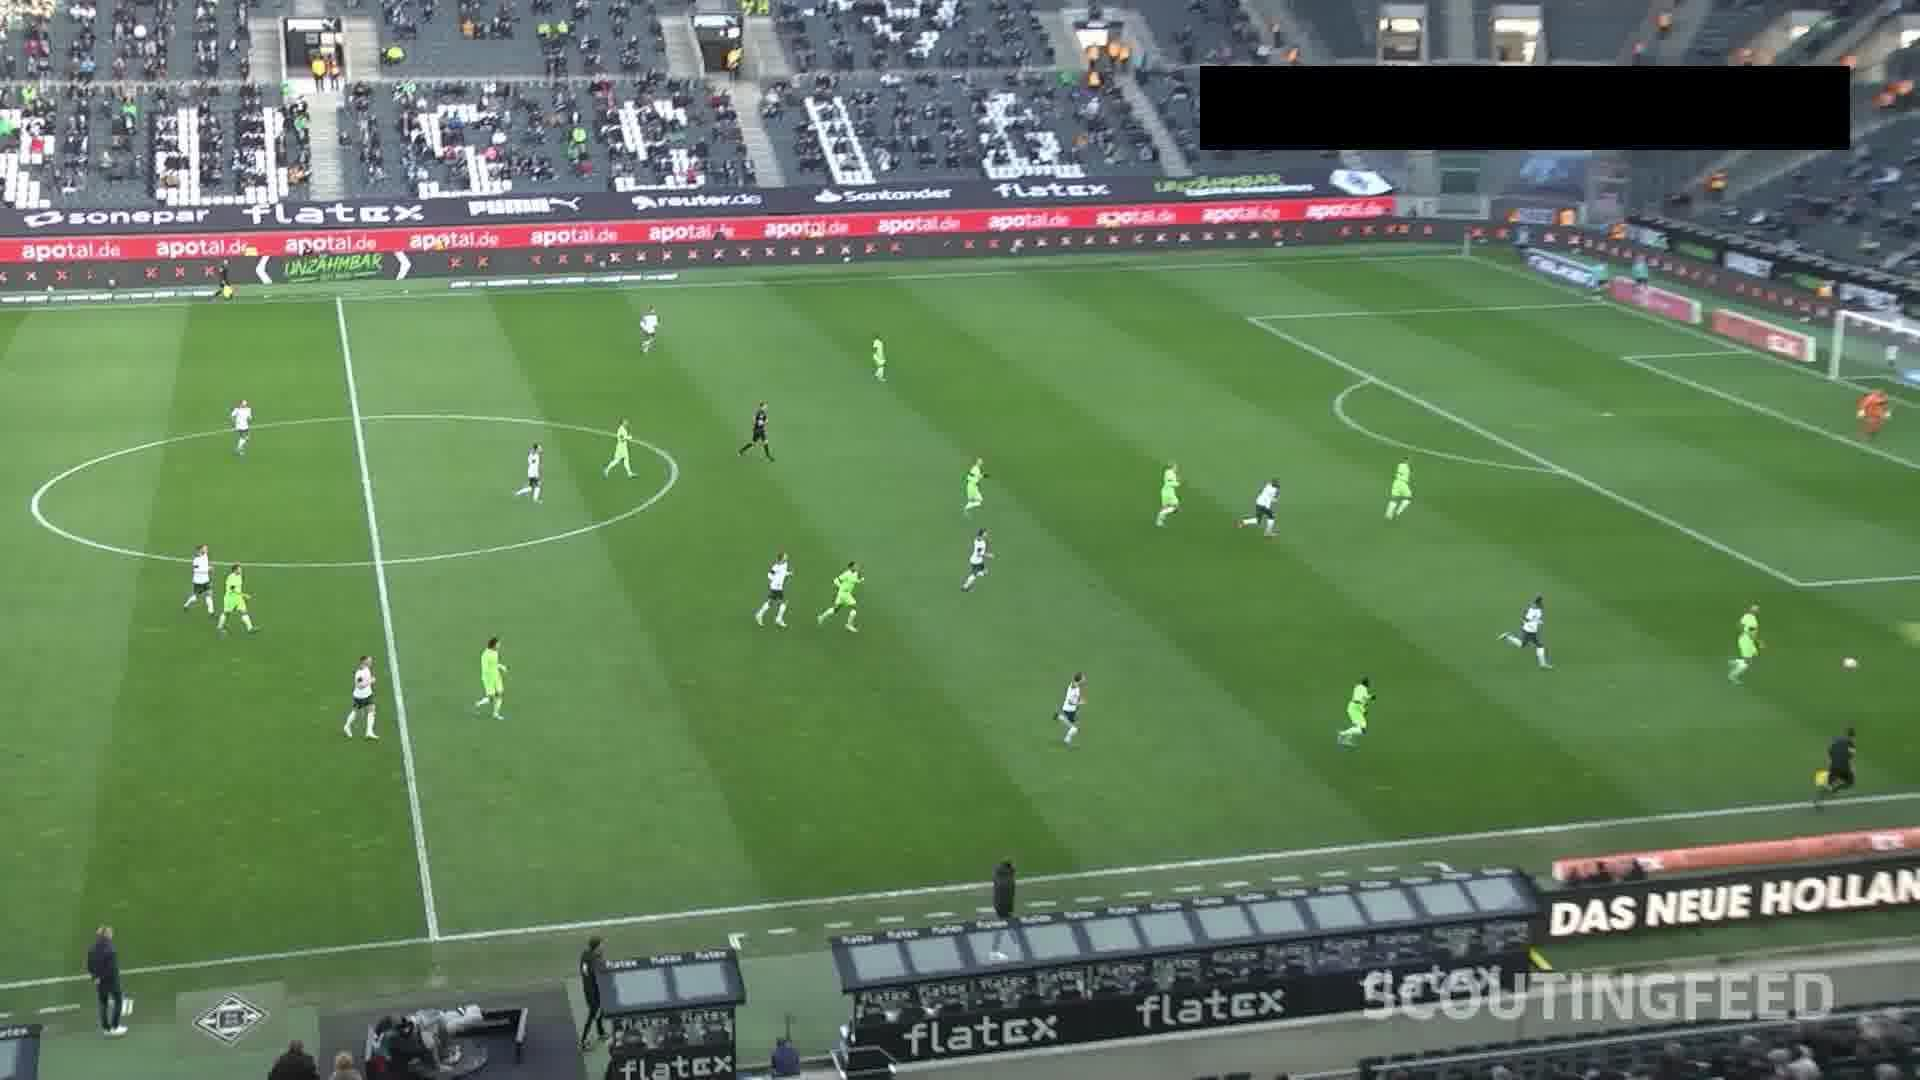football: (1840, 657, 1855, 673)
